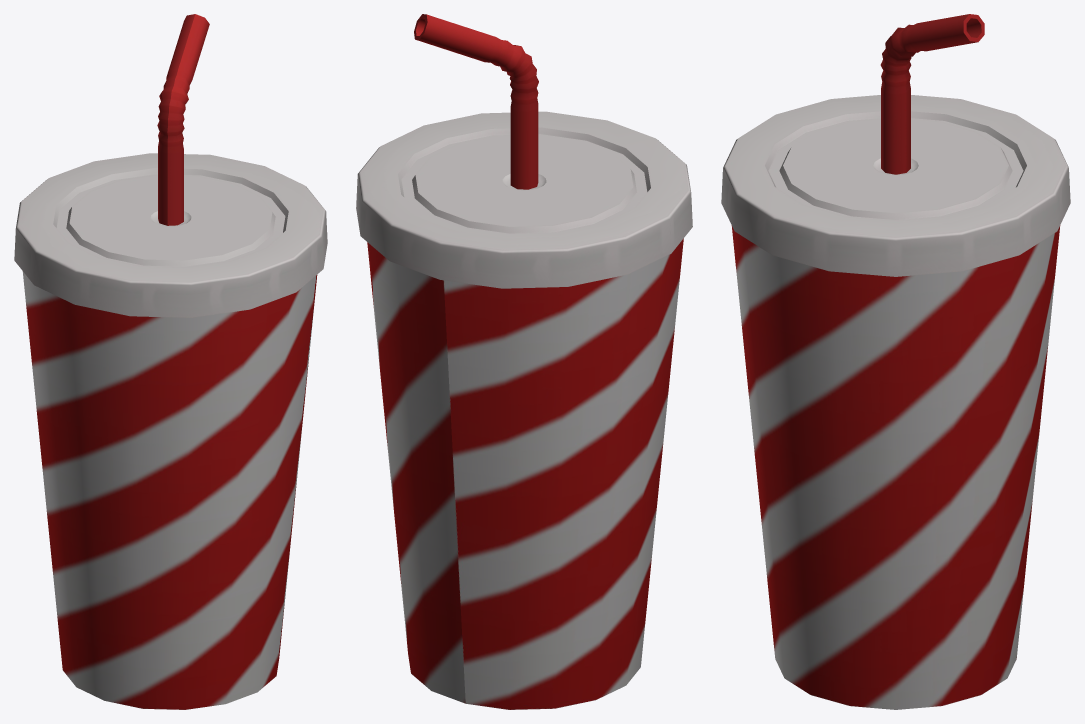
Rendered from SodaCup_1.fbx.
3 views of the same model, side by side, from view 1: azimuth 30°, elevation 25°; view 2: azimuth 150°, elevation 25°; view 3: azimuth 270°, elevation 25° (orthographic). The views are drawn at different scales.
Visible parts, largest first — view 1: SodaCup_1; view 2: SodaCup_1; view 3: SodaCup_1.
Part boxes in pixels (left/top/right/bottom): SodaCup_1: left=14, top=14, right=327, bottom=709; SodaCup_1: left=356, top=14, right=692, bottom=709; SodaCup_1: left=721, top=14, right=1070, bottom=709.
Size of the model in its own units: 47.09 by 101 by 47.09.
1 material, 1 textured.
